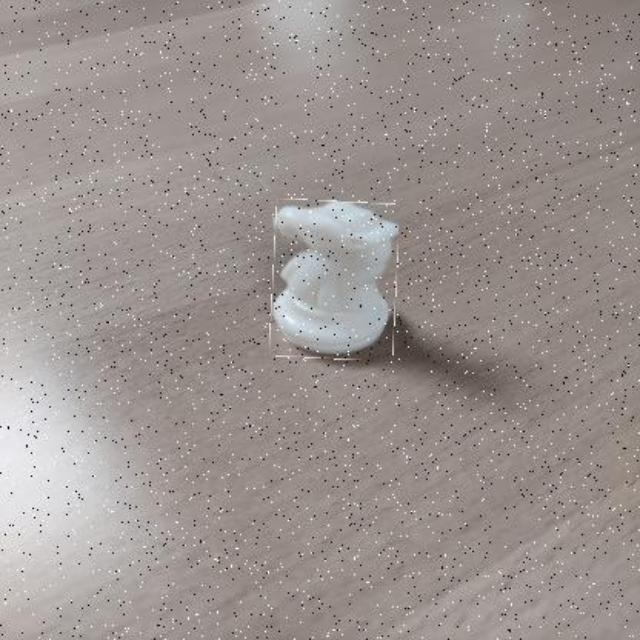white-knight: (271, 201, 398, 361)
